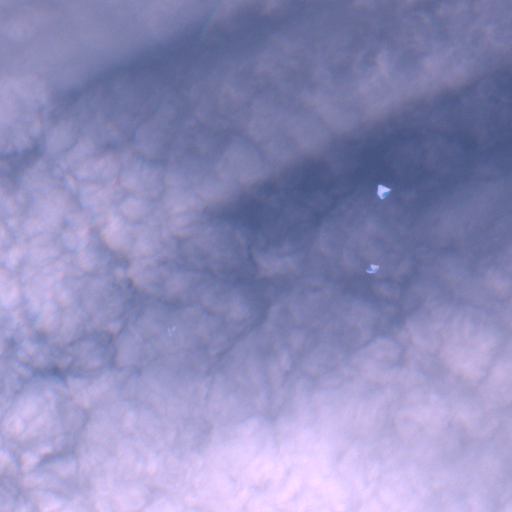Iceberg: (377, 184, 391, 198), (366, 264, 378, 272), (172, 326, 175, 332), (168, 329, 171, 335)
